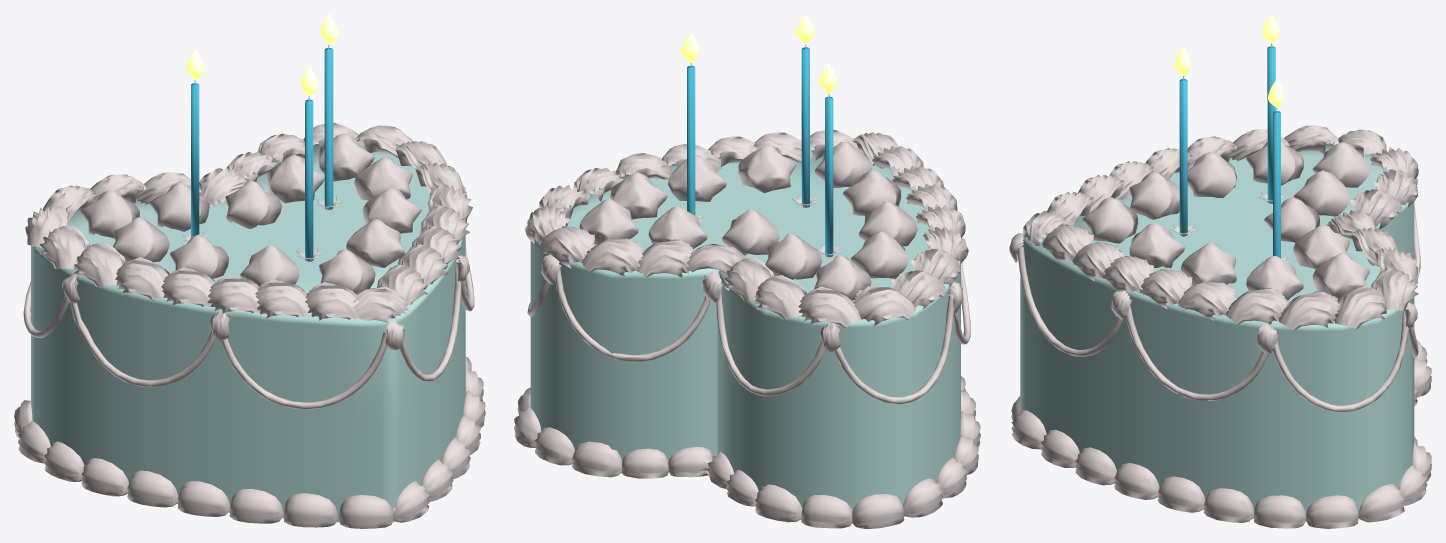
Rendered from heart_cakeNEW.glb.
3 renders of one model, left to right at view 1: azimuth 30°, elevation 25°; view 2: azimuth 150°, elevation 25°; view 3: azimuth 270°, elevation 25°, orthographic. The views are drawn at different scales.
Visible parts, largest first — view 1: kalp-pasta.002, kalp-pasta.001, kalp-pasta.003; view 2: kalp-pasta.002, kalp-pasta.001, kalp-pasta.003; view 3: kalp-pasta.002, kalp-pasta.001, kalp-pasta.003.
Boxes of the visible parts, <box> form: kalp-pasta.002: <box>31,143,465,522</box>; kalp-pasta.001: <box>14,123,485,528</box>; kalp-pasta.003: <box>182,14,342,261</box>; kalp-pasta.002: <box>530,150,960,511</box>; kalp-pasta.001: <box>514,130,980,528</box>; kalp-pasta.003: <box>681,14,841,257</box>; kalp-pasta.002: <box>1020,143,1414,521</box>; kalp-pasta.001: <box>1009,125,1431,528</box>; kalp-pasta.003: <box>1170,14,1289,262</box>.
Bounding box in the file's own units: 0.3267 × 0.2955 × 0.2942.
